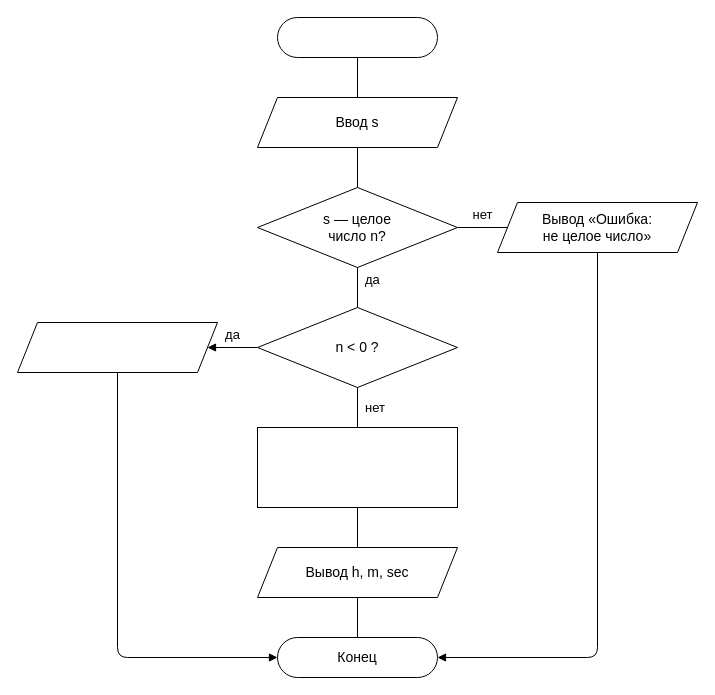
Image size: 715x695. Some labels were removed from this diagram. Each missing label, with the box of its shape:
h = n div 3600 m = (n mod 3600) div 60 sec = n mod 60: (256, 426, 458, 508)
Вывод «Ошибка: отрицательное число»: (16, 322, 218, 372)
Начало: (276, 16, 438, 58)
